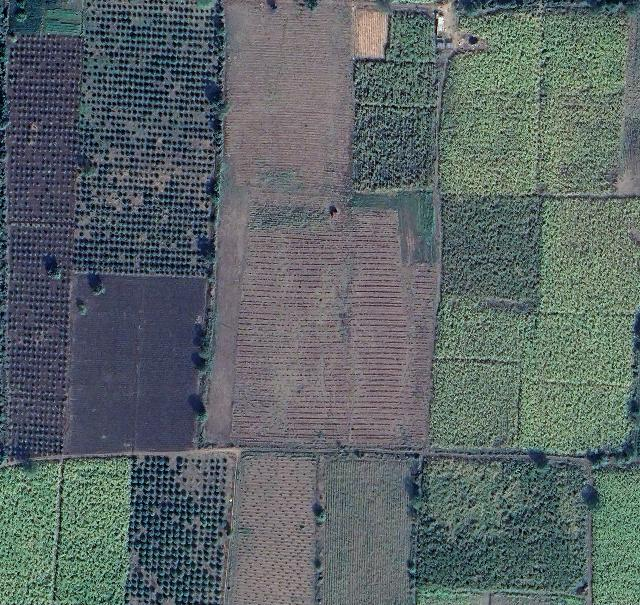DryFarms: (355, 10, 389, 61)
EmptyFarms: (63, 274, 207, 454)
Farms: (201, 1, 438, 448), (73, 0, 220, 274), (7, 36, 80, 462), (437, 302, 636, 445), (417, 460, 591, 597), (433, 5, 543, 199), (127, 453, 239, 605), (539, 1, 626, 192), (321, 457, 420, 605), (225, 454, 321, 604), (357, 12, 435, 188), (55, 456, 135, 605), (541, 195, 640, 314), (441, 199, 541, 305), (3, 461, 61, 605), (433, 356, 520, 443)
